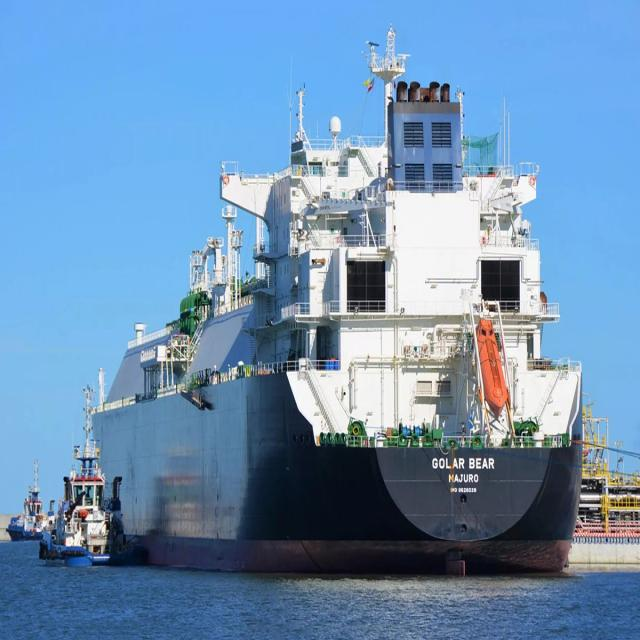boat: (94, 23, 593, 597)
